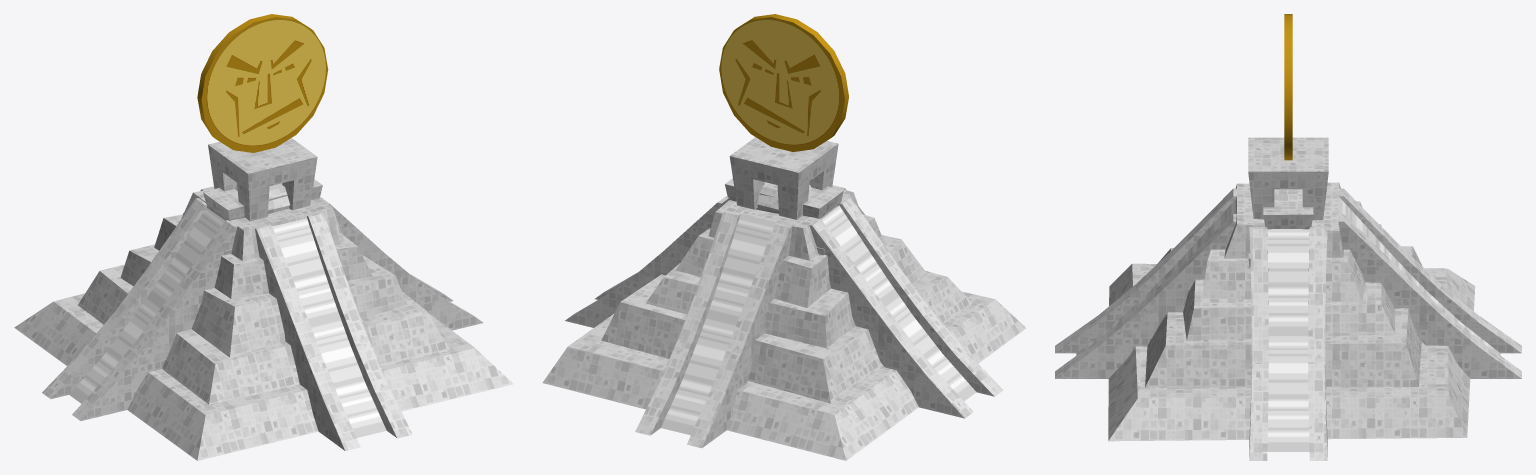
Rendered from Environment.FBX.
3 views of the same model, side by side, from view 1: azimuth 30°, elevation 25°; view 2: azimuth 150°, elevation 25°; view 3: azimuth 270°, elevation 25° (orthographic).
Visible parts, largest first — view 1: MainTemple, God, MainTempleStairs, Temple02, Temple01; view 2: MainTemple, God, MainTempleStairs, Temple02, Temple01; view 3: MainTemple, MainTempleStairs, God, Temple02.
Boxes of the visible parts, x1,y1,x2,y2 form: MainTemple: [14, 138, 513, 460]; God: [197, 14, 328, 152]; MainTempleStairs: [69, 207, 386, 437]; Temple02: [203, 179, 341, 255]; Temple01: [234, 183, 289, 213]; MainTemple: [542, 137, 1026, 460]; God: [719, 14, 848, 151]; MainTempleStairs: [661, 200, 976, 435]; Temple02: [725, 178, 843, 255]; Temple01: [755, 182, 811, 213]; MainTemple: [1055, 137, 1521, 460]; MainTempleStairs: [1076, 196, 1500, 451]; God: [1284, 14, 1292, 160]; Temple02: [1248, 201, 1313, 267].
Size of the model in its own units: 2684 by 2570 by 2684.
